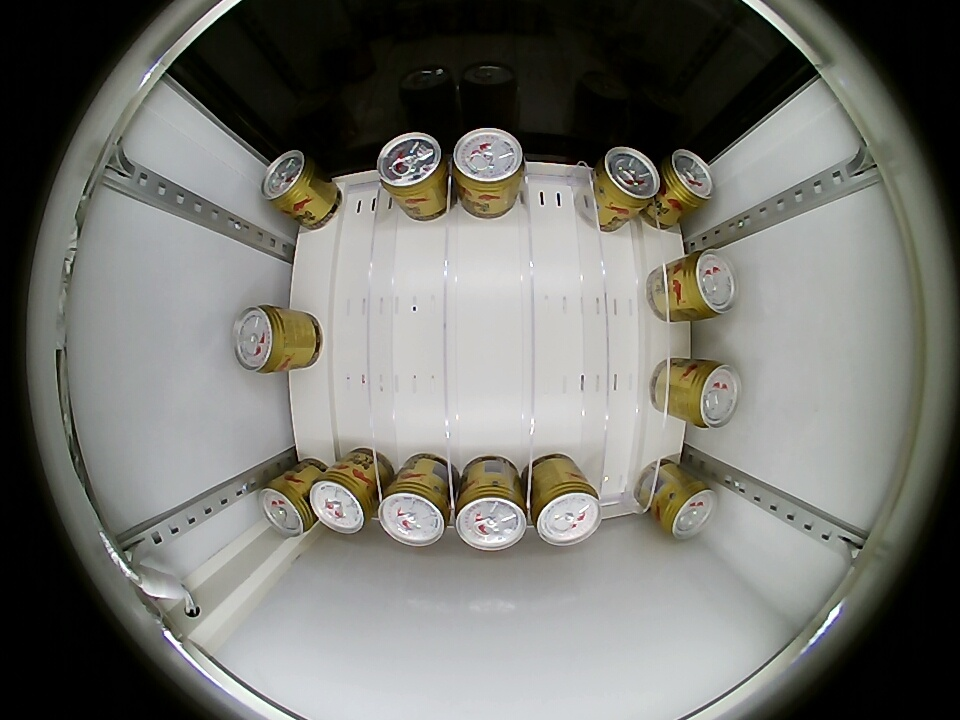hongniu2: (454, 481, 528, 552), (452, 129, 525, 199), (378, 478, 450, 548), (531, 475, 601, 547), (377, 132, 448, 202), (310, 467, 376, 535), (594, 146, 659, 211), (678, 249, 738, 319), (683, 360, 741, 429), (232, 304, 289, 374), (658, 477, 717, 540), (258, 476, 316, 537), (261, 150, 318, 212), (659, 148, 714, 211)
